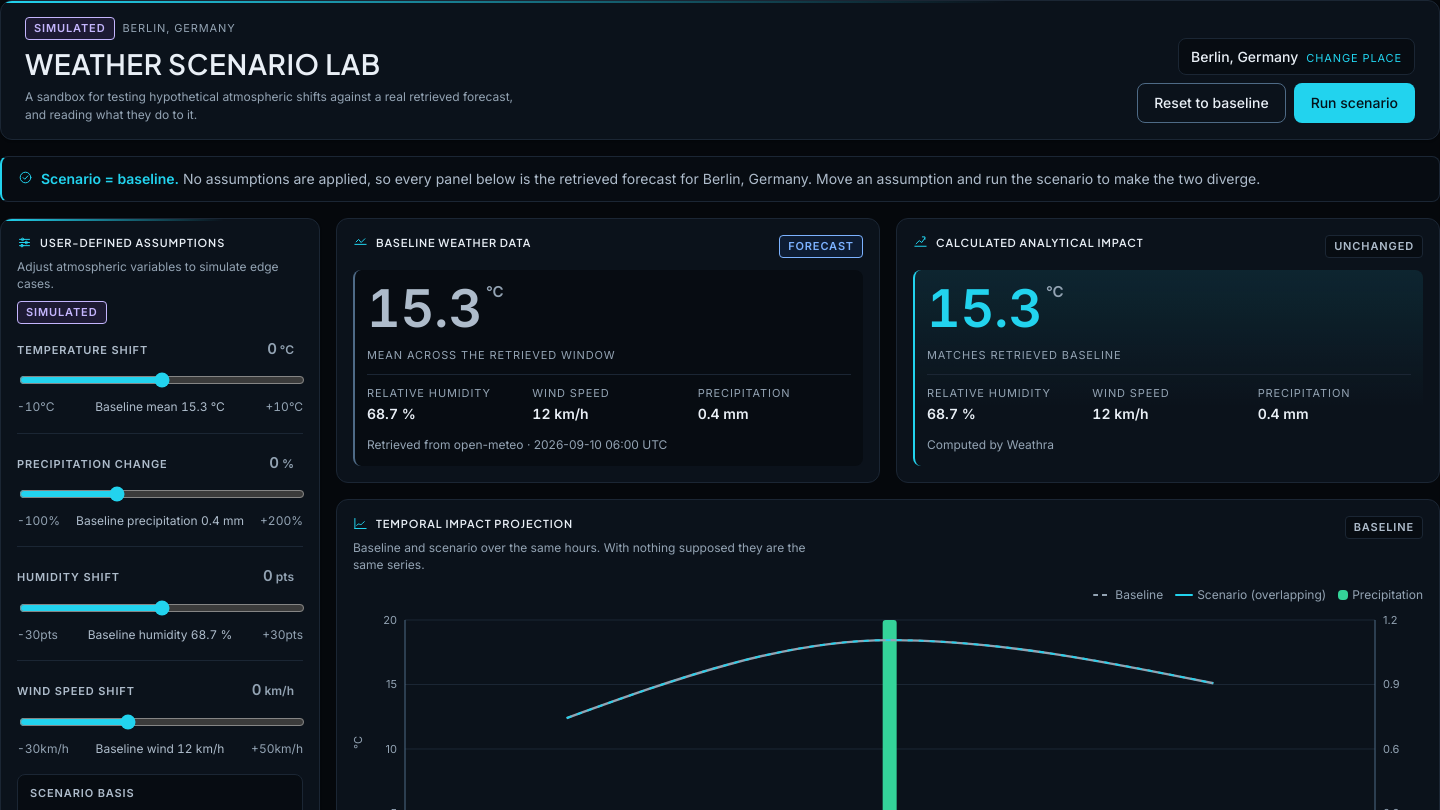
Test: a real scenario, and the reset that undoes it › returns every panel to the baseline state on reset, and keeps the place
Check: the heading "Temporal impact projection" is shown, box [353,516,573,531]
Step 1. Replace the text in the number field named "Temperature shift, exact value" with "2.5" → (252, 349), box [227,339,277,359]
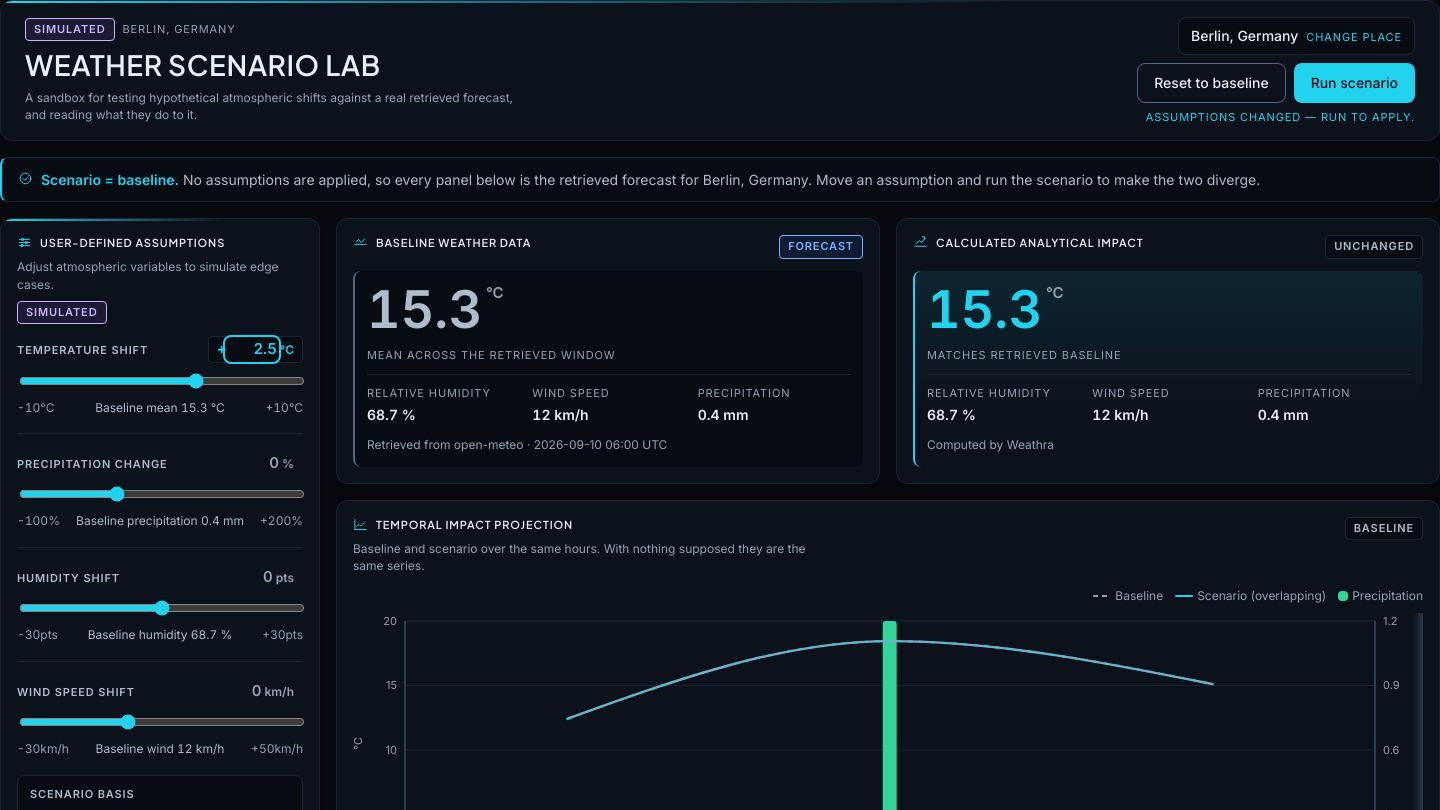
Step 2. Replace the text in the number field named "Precipitation change, exact value" with "15" → (254, 463), box [230,453,279,474]
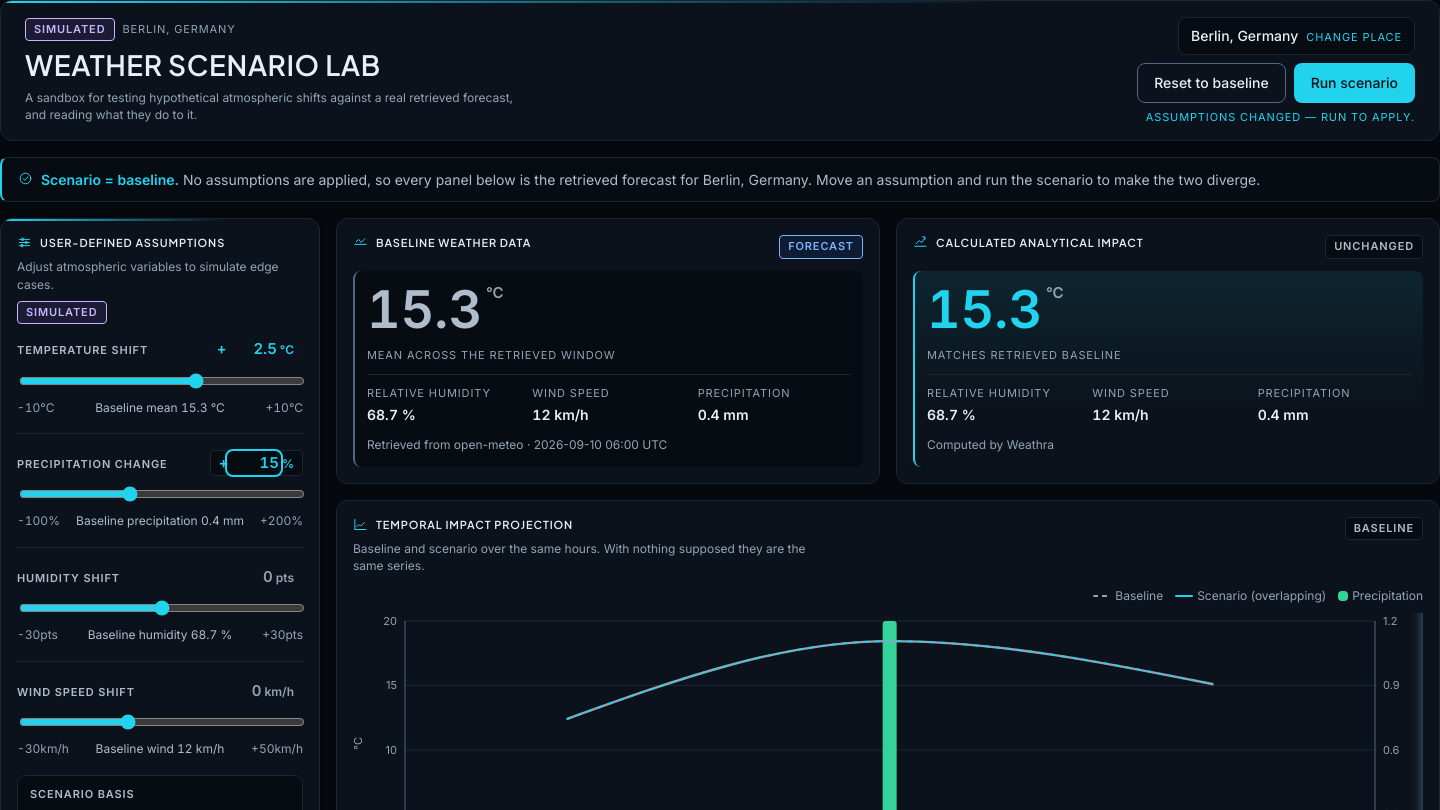
Step 3. Replace the text in the number field named "Humidity shift, exact value" with "5" → (248, 577), box [223,567,273,587]
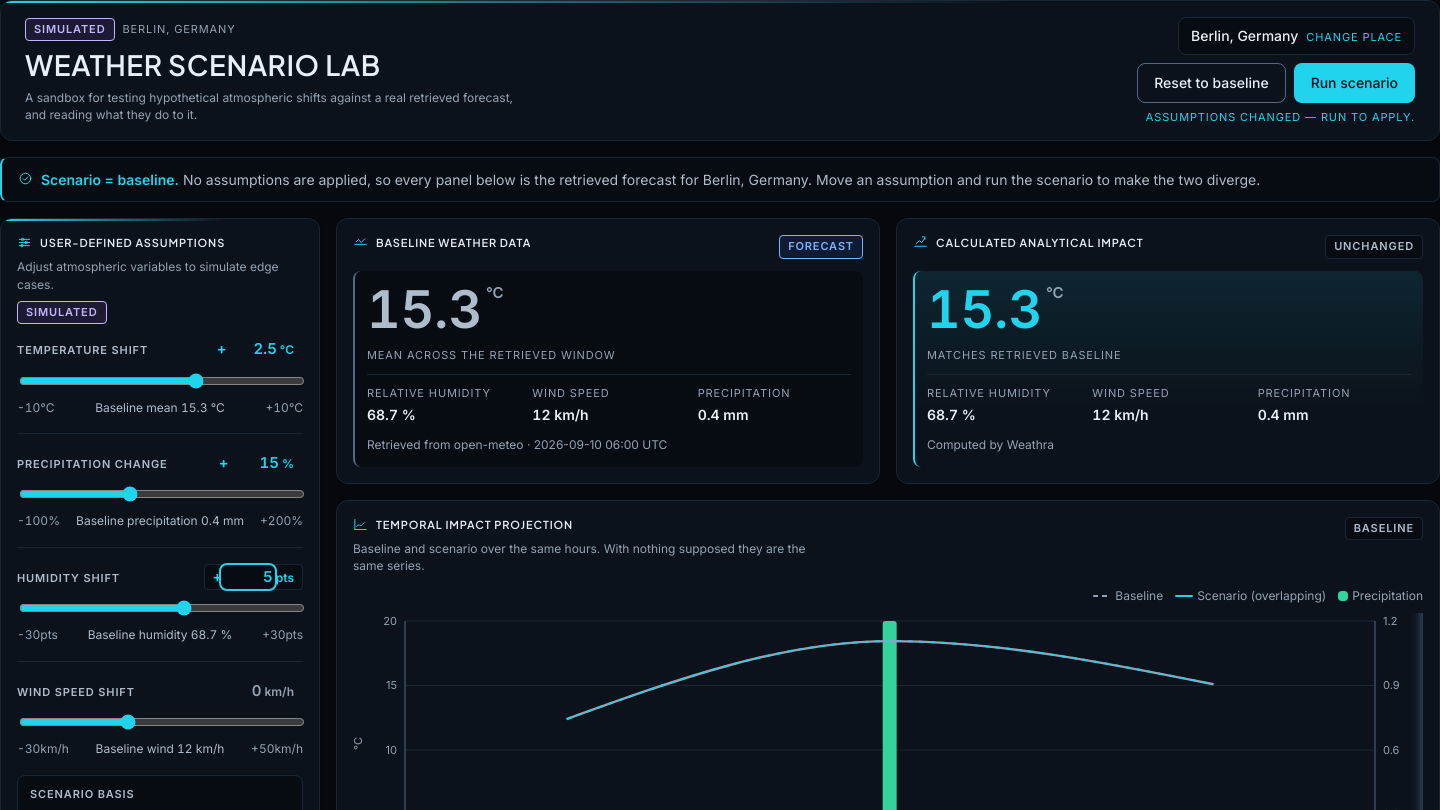
Step 4. Replace the text in the number field named "Wind speed shift, exact value" with "10" → (237, 691), box [212,681,262,701]
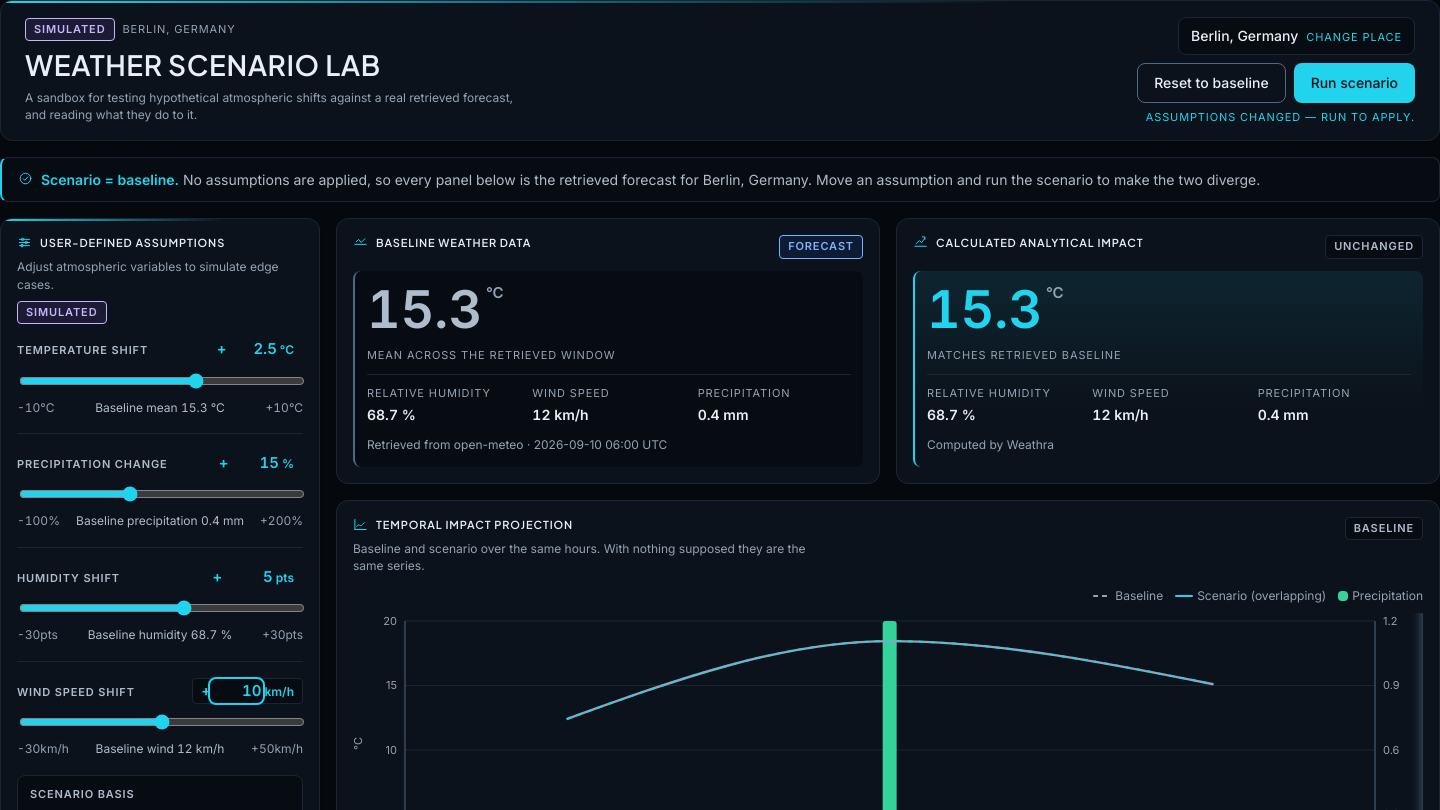
Step 5. Click the button "Run scenario" → (1354, 83), box [1294,63,1415,103]
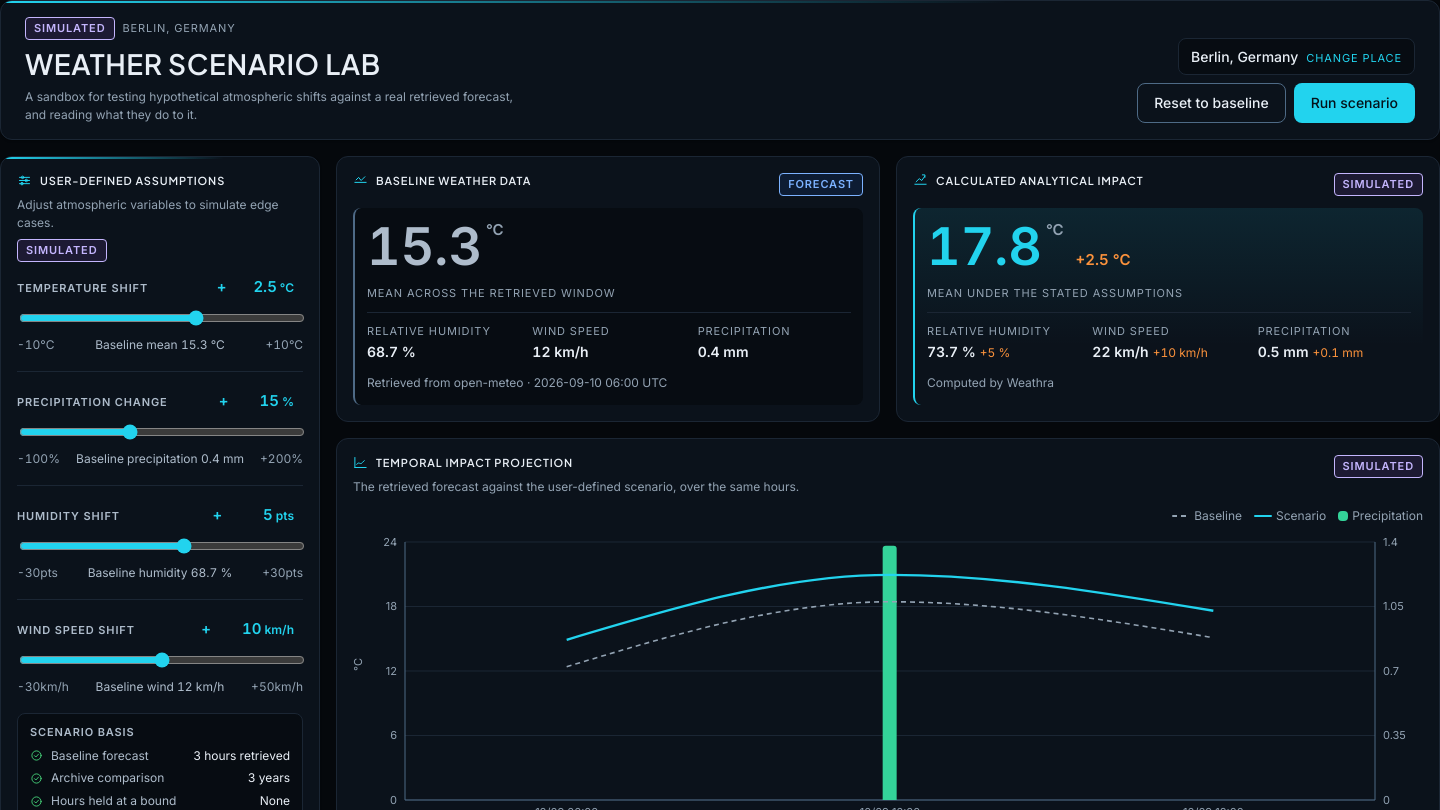
Step 6. Click the button "Reset to baseline" → (1211, 103), box [1137,83,1286,123]
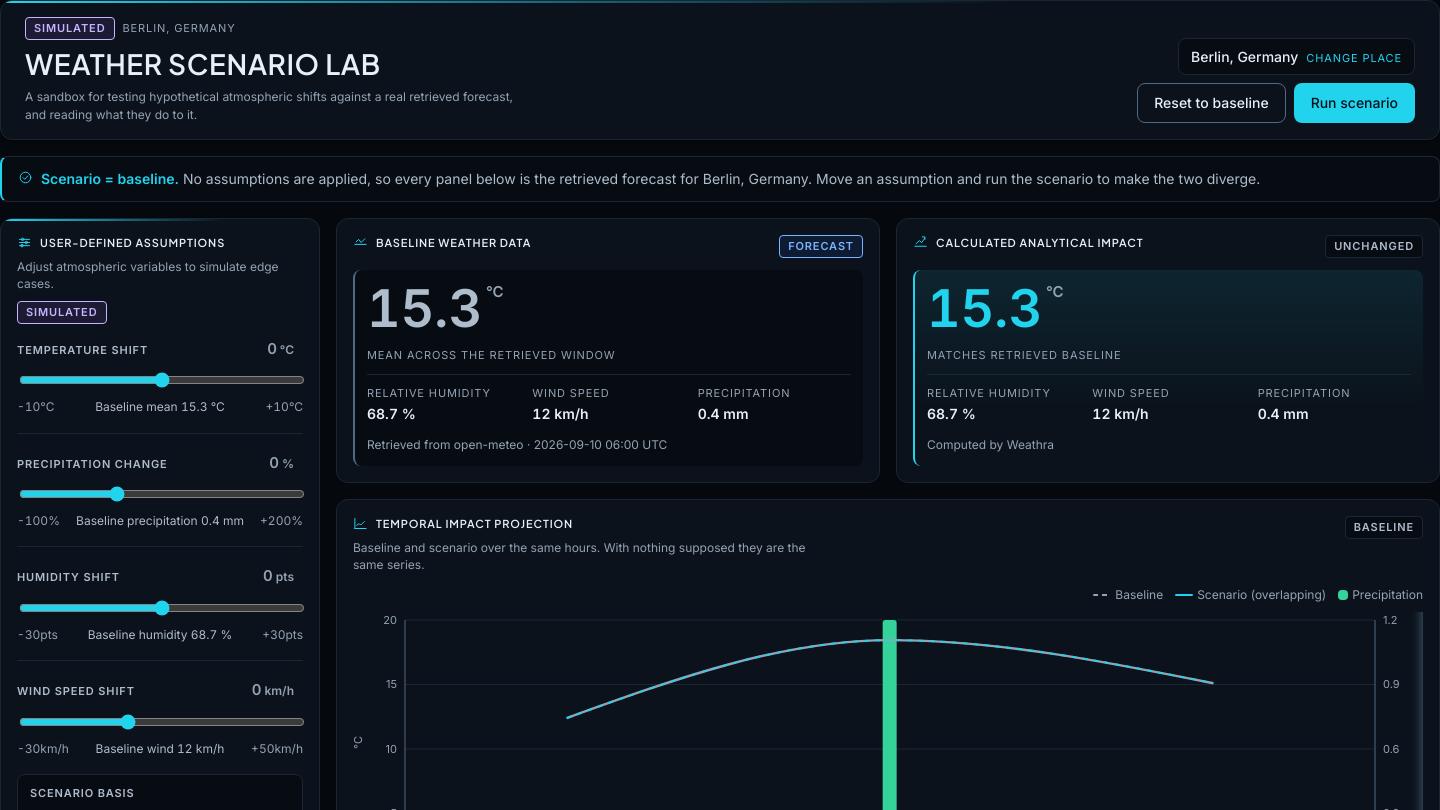
Check: the text "Scenario = baseline." is shown, box [41,170,179,187]
Check: the text "Unchanged" is shown, box [1325,235,1423,258]
Check: the text "15.3" below "Calculated analytical impact" is shown, box [927,277,1042,340]
